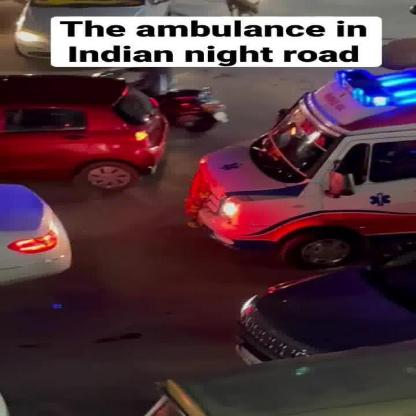priority: (184, 68, 416, 244)
